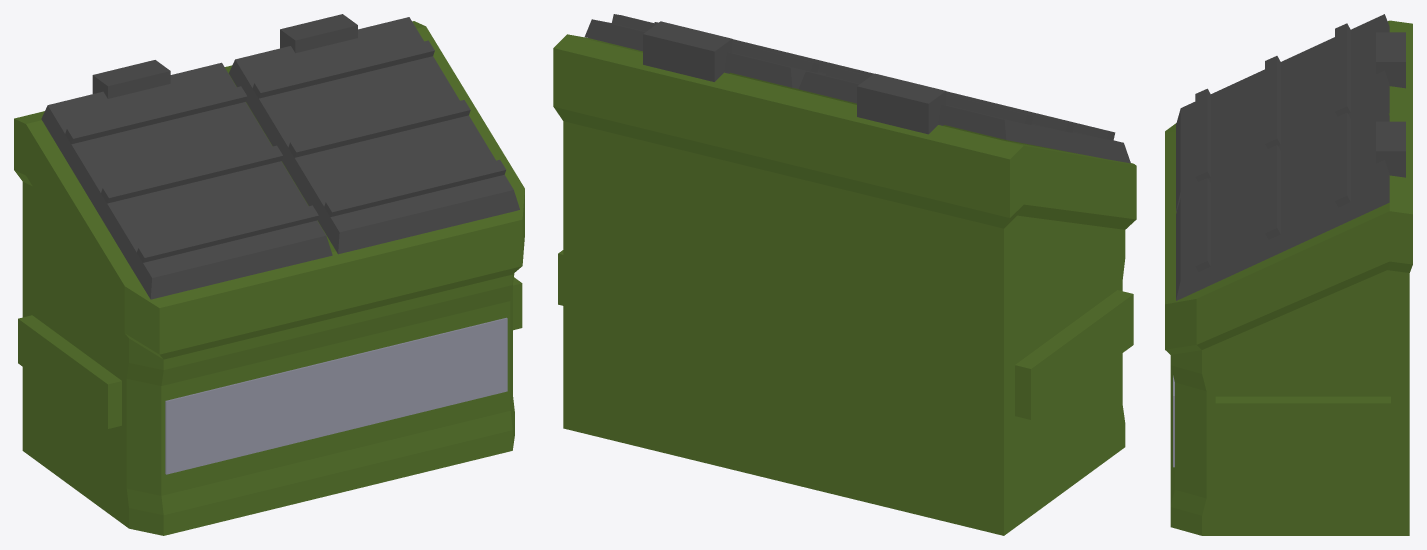
The model's file is dumpster.glb.
3 renders of one model, left to right at view 1: azimuth 30°, elevation 25°; view 2: azimuth 150°, elevation 25°; view 3: azimuth 270°, elevation 25°, orthographic. The views are drawn at different scales.
Visible parts, largest first — view 1: TrashContainer; view 2: TrashContainer; view 3: TrashContainer.
Part boxes in pixels (box(x1,y1,x2,y2)): TrashContainer: box(14, 14, 524, 535); TrashContainer: box(553, 14, 1136, 535); TrashContainer: box(1165, 14, 1412, 535).
Size of the model in its own units: 2.44 by 2.03 by 1.3.
Materials: 1 (1 with a texture image).
